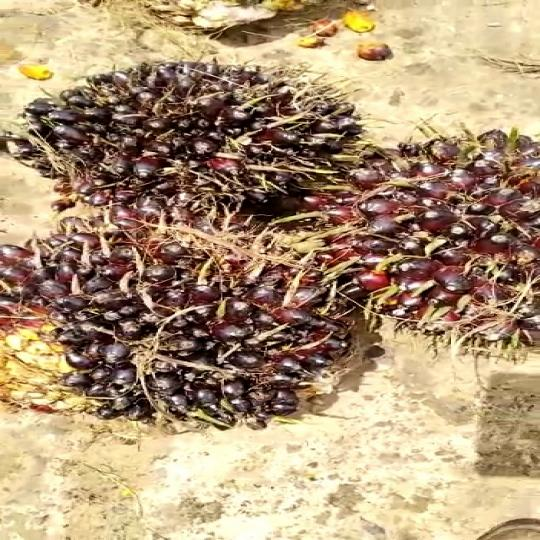mentah: (0, 212, 374, 437), (7, 53, 373, 230), (310, 122, 540, 360)
